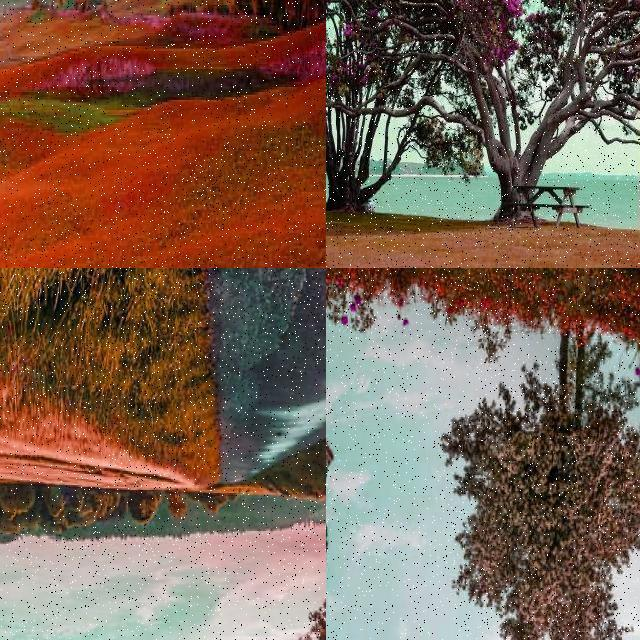tree: (326, 0, 640, 238), (439, 336, 640, 639), (0, 0, 60, 124)
